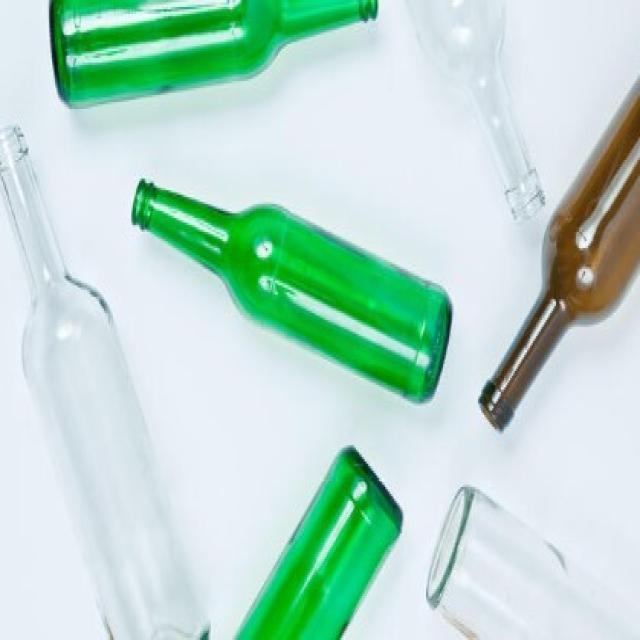electronic: (131, 175, 454, 414)
